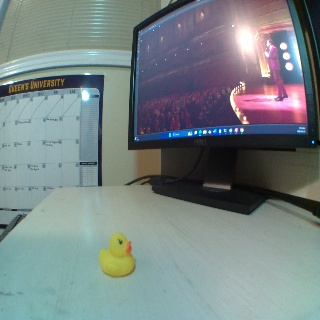duck_regular: (98, 233, 134, 275)
